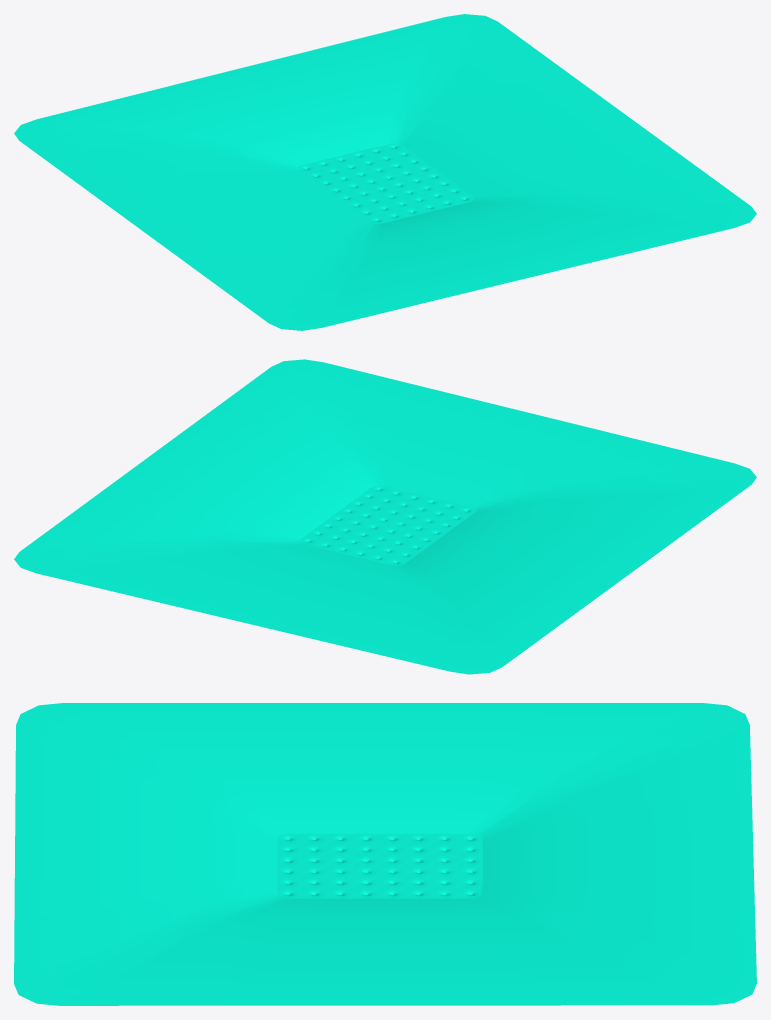
The model's file is Collider_Ball_RealSize.FBX.
3 renders of one model, top to bottom at view 1: azimuth 30°, elevation 25°; view 2: azimuth 150°, elevation 25°; view 3: azimuth 270°, elevation 25°, orthographic. The views are drawn at different scales.
Parts seen in each view (by area): view 1: Collider_Realsize; view 2: Collider_Realsize; view 3: Collider_Realsize.
Boxes of the visible parts, x1,y1,x2,y2 form: Collider_Realsize: (14,14,756,330); Collider_Realsize: (14,359,756,674); Collider_Realsize: (14,703,756,1005).
Size of the model in its own units: 109 by 2.63 by 113.
